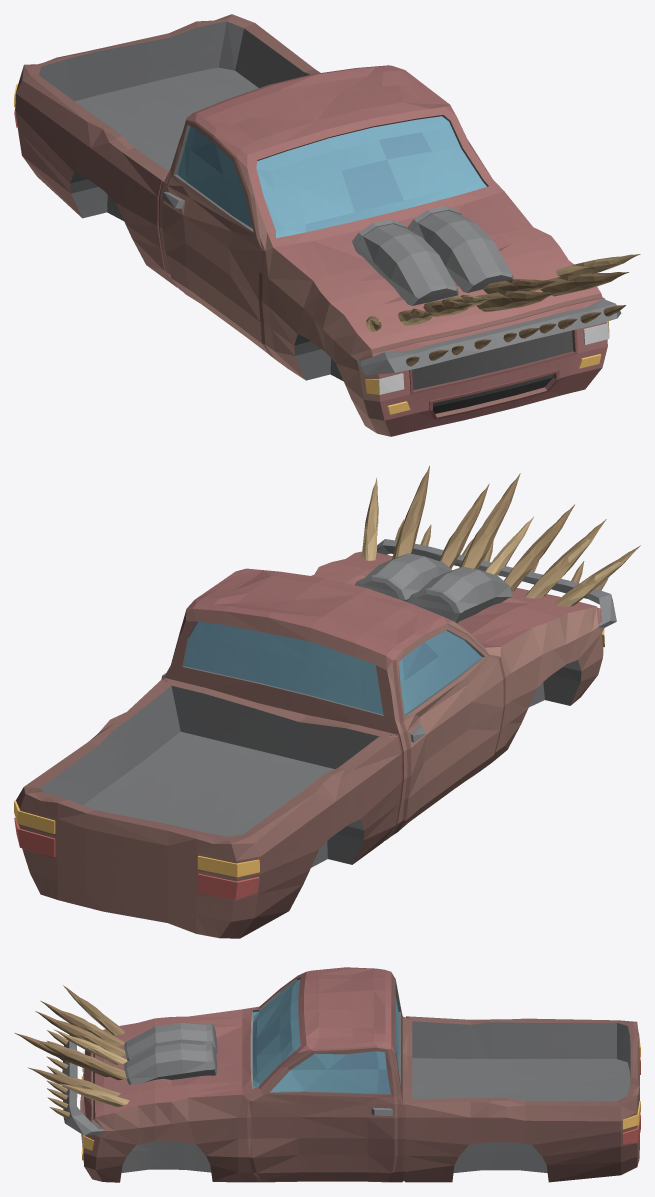
File: car.dae
3 renders of one model, top to bottom at view 1: azimuth 30°, elevation 25°; view 2: azimuth 150°, elevation 25°; view 3: azimuth 270°, elevation 25°, orthographic. The views are drawn at different scales.
Visible parts, largest first — view 1: car, engine_part_1, car_spikes, engine_part_2, small_car_spikes; view 2: car, car_spikes, engine_part_1, engine_part_2; view 3: car, car_spikes, engine_part_2, engine_part_1, small_car_spikes.
Boxes of the visible parts, box(x1,y1,x2,y2) form: car: box(14, 14, 621, 436); engine_part_1: box(352, 219, 458, 305); car_spikes: box(366, 254, 640, 331); engine_part_2: box(407, 206, 513, 292); small_car_spikes: box(406, 305, 625, 366); car: box(14, 539, 616, 938); car_spikes: box(361, 465, 640, 606); engine_part_1: box(407, 566, 512, 623); engine_part_2: box(355, 553, 451, 601); car: box(62, 967, 640, 1182); car_spikes: box(14, 985, 129, 1106); engine_part_2: box(124, 1043, 217, 1084); engine_part_1: box(124, 1022, 217, 1060); small_car_spikes: box(46, 1030, 69, 1118).
Size of the model in its own units: 2.15 by 5.74 by 1.48.
